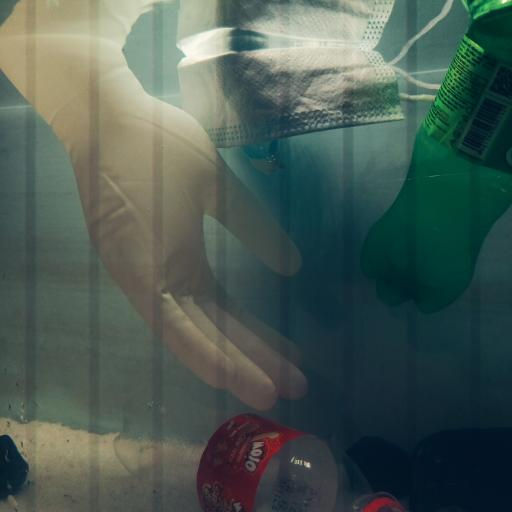glove: (2, 40, 311, 410)
mask: (177, 48, 440, 172)
plastic_bottle: (358, 0, 512, 315), (112, 389, 403, 512)
